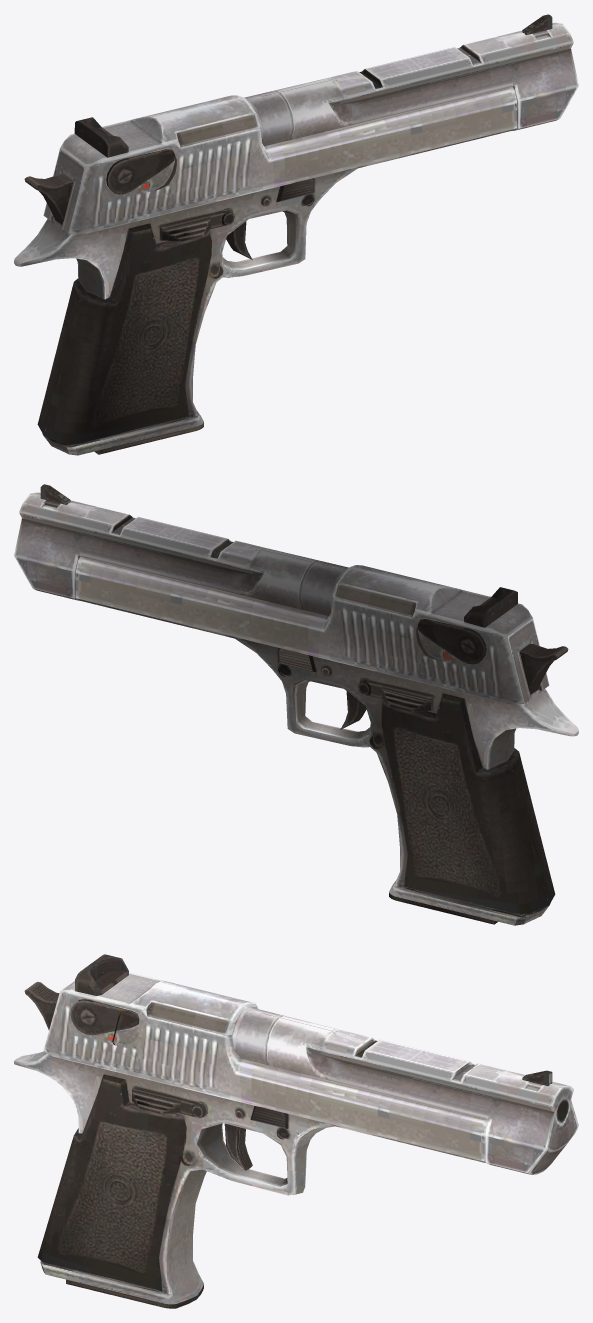
The model's file is Gun.glb.
3 renders of one model, top to bottom at view 1: azimuth 30°, elevation 25°; view 2: azimuth 150°, elevation 25°; view 3: azimuth 330°, elevation 25°, orthographic.
Visible parts, largest first — view 1: Mesh_0003.rip; view 2: Mesh_0003.rip; view 3: Mesh_0003.rip.
Boxes of the visible parts, x1=… form: Mesh_0003.rip: x1=14, y1=14, x2=578, y2=455; Mesh_0003.rip: x1=14, y1=484, x2=578, y2=925; Mesh_0003.rip: x1=14, y1=954, x2=578, y2=1308.
Size of the model in its own units: 0.8584 by 0.4702 by 0.1251.
1 material, 1 textured.
